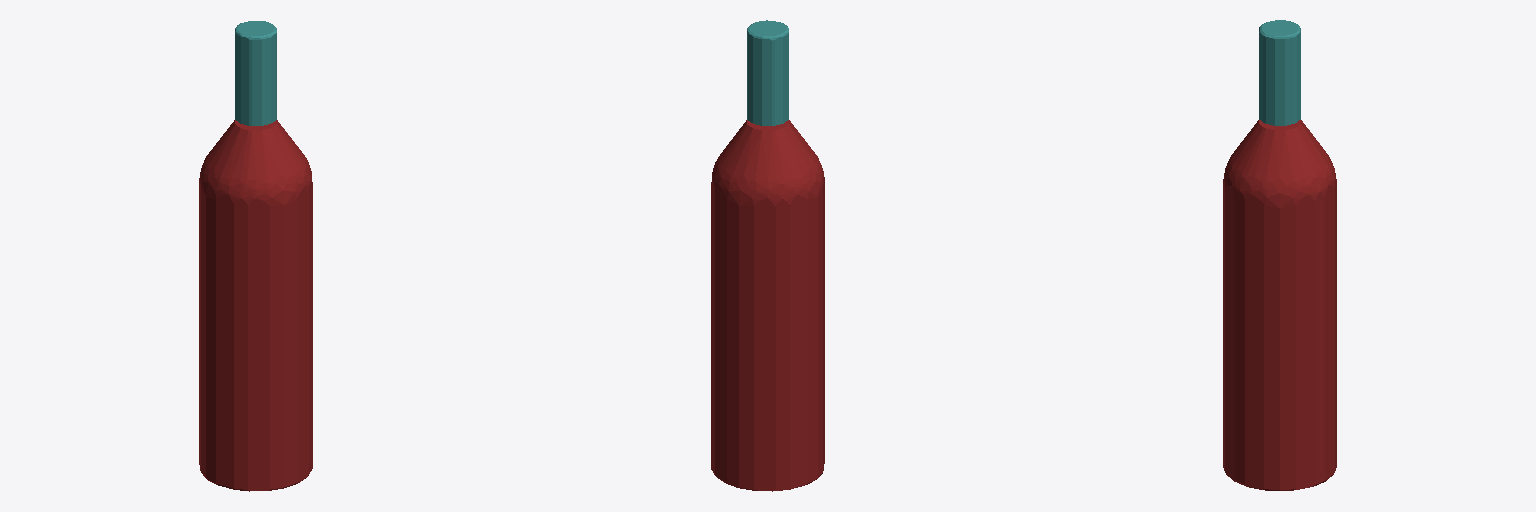
URDF robot description (root):
<robot name="root">
  <link name="bottle_body">
    <inertial>
      <origin xyz="0 0 0" rpy="0 0 0"/>
    </inertial>
    <mass value="1.00E-02"/>
    <visual>
      <origin xyz="0 0 0" rpy="0 0 0"/>
      <geometry>
        <mesh filename="core-bottle-452c562f86da1ca7bdcda0bf7e7b4744-coacd_convex_piece_1.obj" scale="1.0000E-01 1.0000E-01 1.0000E-01"/>
      </geometry>
      <material name="">
        <color rgba="6.00E-01 2.00E-01 2.00E-01 1"/>
      </material>
    </visual>
    <collision>
      <origin xyz="0 0 0" rpy="0 0 0"/>
      <geometry>
        <mesh filename="core-bottle-452c562f86da1ca7bdcda0bf7e7b4744-coacd_convex_piece_1.obj" scale="1.0000E-01 1.0000E-01 1.0000E-01"/>
      </geometry>
    </collision>
  </link>
  <link name="bottle_cap">
    <origin xyz="0 0 0.002" rpy="0 0 0"/>
    <mass value="1.00E-02"/>
    <visual>
      <origin xyz="0 0 0.002" rpy="0 0 0"/>
      <geometry>
        <mesh filename="core-bottle-452c562f86da1ca7bdcda0bf7e7b4744-coacd_convex_piece_0.obj" scale="1.0000E-01 1.0000E-01 1.0000E-01"/>
      </geometry>
      <material name="">
        <color rgba="3.00E-01 6.00E-01 6.00E-01 1"/>
      </material>
    </visual>
    <collision>
      <origin xyz="0 0 0.002" rpy="0 0 0"/>
      <geometry>
        <mesh filename="core-bottle-452c562f86da1ca7bdcda0bf7e7b4744-coacd_convex_piece_0.obj" scale="1.0000E-01 1.0000E-01 1.0000E-01"/>
      </geometry>
    </collision>
  </link>
  <joint name="bottle_cap_joint" type="revolute">
    <origin xyz="0 0 0" rpy="0 0 0"/>
    <parent link="bottle_body"/>
    <child link="bottle_cap"/>
    <axis xyz="0 0 1"/>
    <limit lower="0.00" upper="6.28"/>
    <dynamics damping="0.05"/>
  </joint>
</robot>

--- What the picture shows (computed from the rendered views, not written in the file) ---
3 views of the same robot in one strip: view 1: azimuth 30°, elevation 25°; view 2: azimuth 150°, elevation 25°; view 3: azimuth 270°, elevation 25° (orthographic).
Model root with 2 links and 1 joints (1 revolute), rooted at bottle_body, posed every joint at zero.
Visible links, largest first — view 1: bottle_body, bottle_cap; view 2: bottle_body, bottle_cap; view 3: bottle_body, bottle_cap.
Boxes of the visible links, <box> form: bottle_body: <box>199,120,312,491</box>; bottle_cap: <box>235,21,276,125</box>; bottle_body: <box>711,120,824,491</box>; bottle_cap: <box>747,20,788,125</box>; bottle_body: <box>1223,120,1336,490</box>; bottle_cap: <box>1259,20,1300,125</box>.
Bounding box of the posed robot: 0.0457 × 0.0457 × 0.1931 m (x, y, z).
2 mesh visuals loaded from 2 distinct referenced files (2 OBJ).